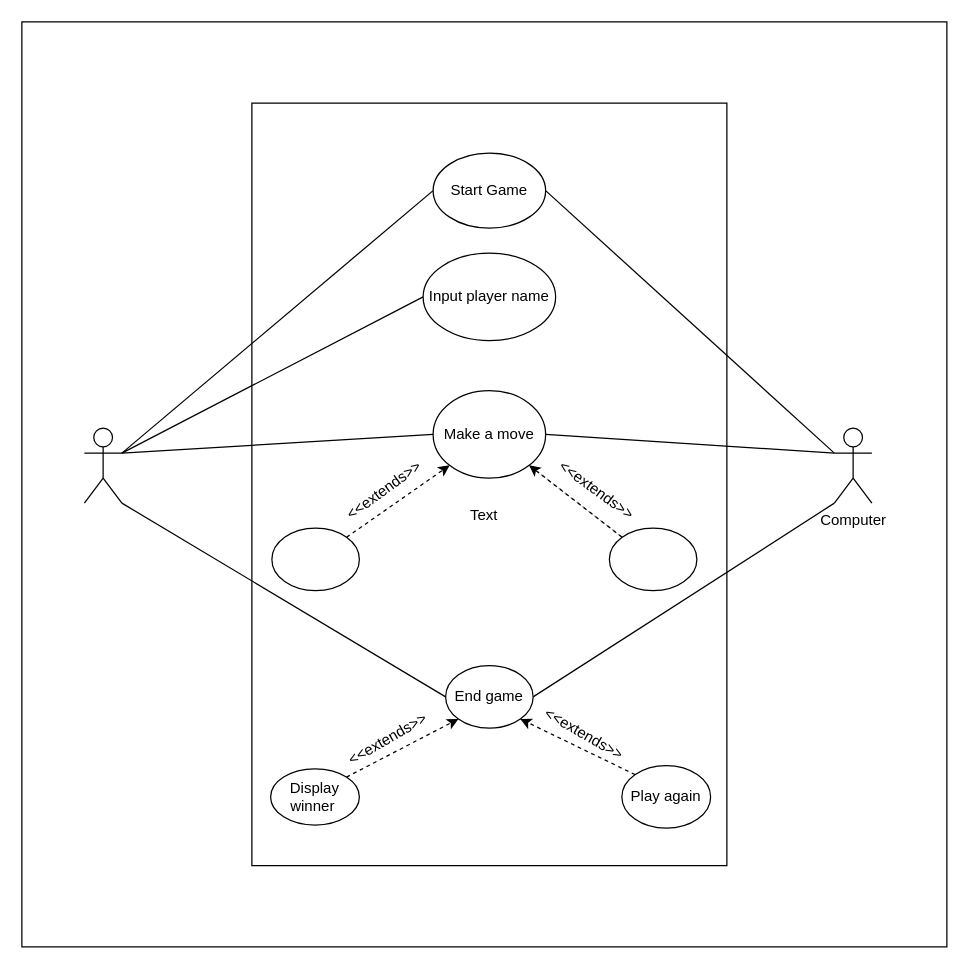
Image size: 969x969. Some labels were removed from this diagram. Each missing label, with the centre of its shape:
Assign O: the point at 652,559
Assign X: the point at 315,559
Player: the point at 102,465
